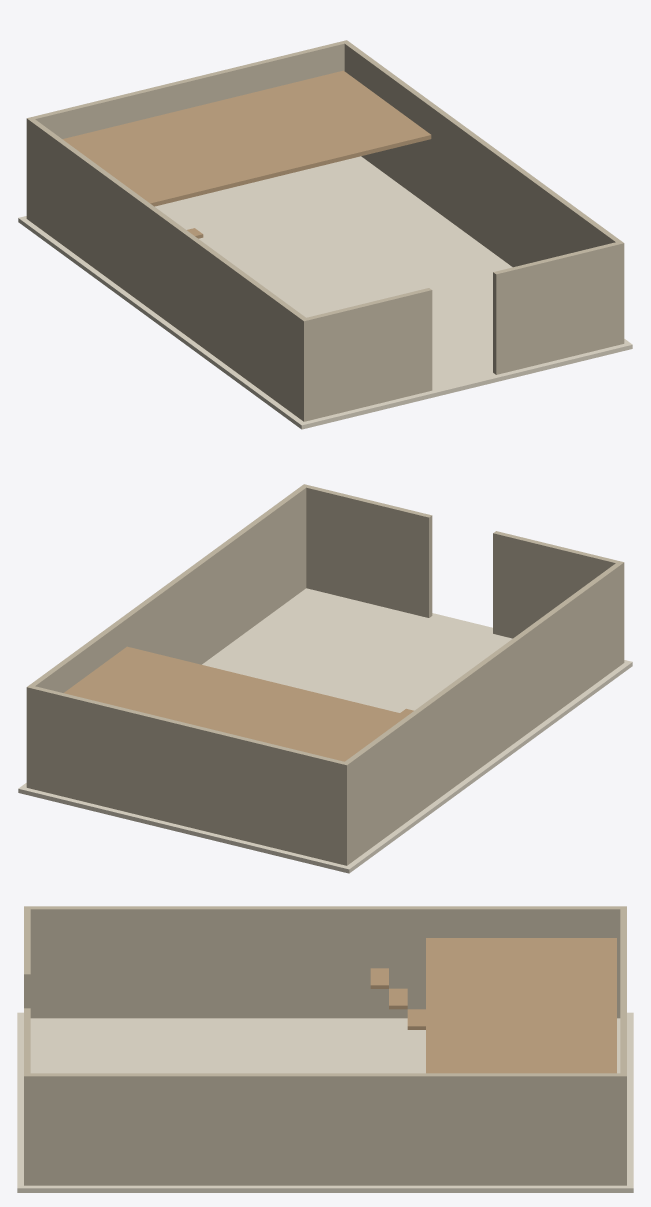
Rendered from the-barn.lod1.glb.
3 renders of one model, top to bottom at view 1: azimuth 30°, elevation 25°; view 2: azimuth 150°, elevation 25°; view 3: azimuth 270°, elevation 25°, orthographic. The views are drawn at different scales.
Bounding box in the file's own units: 12.6 × 5.95 × 18.6.
